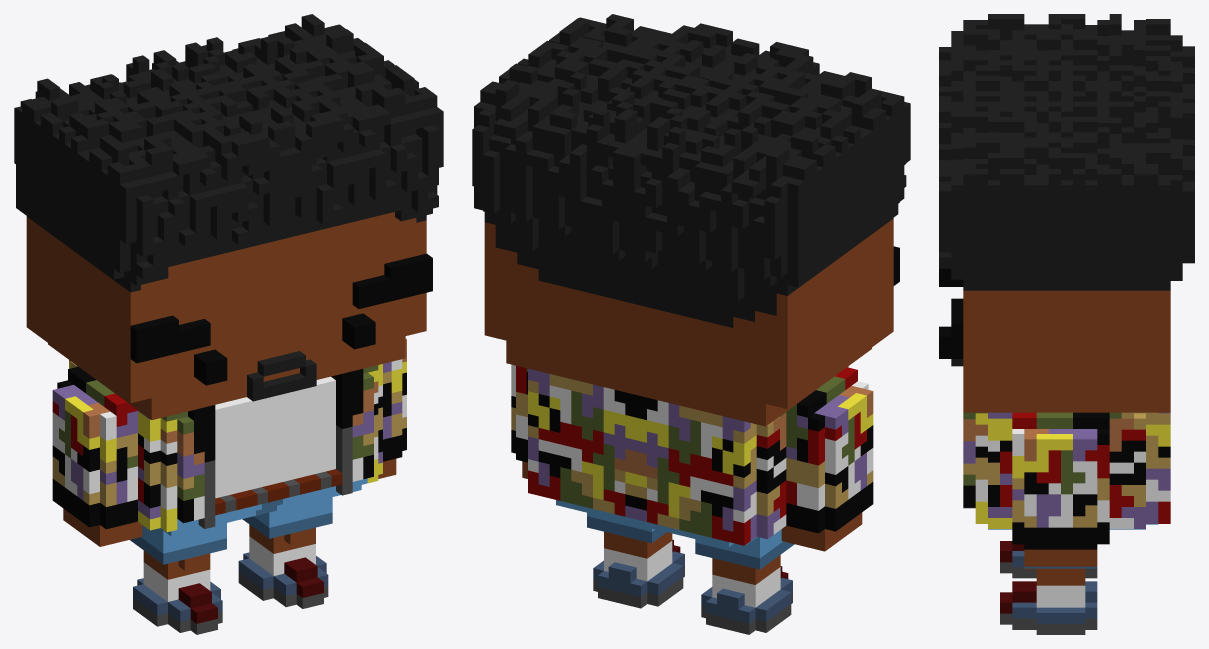
File: asset.glb
3 renders of one model, left to right at view 1: azimuth 30°, elevation 25°; view 2: azimuth 150°, elevation 25°; view 3: azimuth 270°, elevation 25°, orthographic. The views are drawn at different scales.
Visible parts, largest first — view 1: fresh prince; view 2: fresh prince; view 3: fresh prince.
Boxes of the visible parts, x1,y1,x2,y2 form: fresh prince: [14, 14, 443, 634]; fresh prince: [472, 14, 910, 634]; fresh prince: [939, 14, 1194, 634].
Size of the model in its own units: 3 by 4.6 by 2.1.
Materials: 1 (1 with a texture image).
